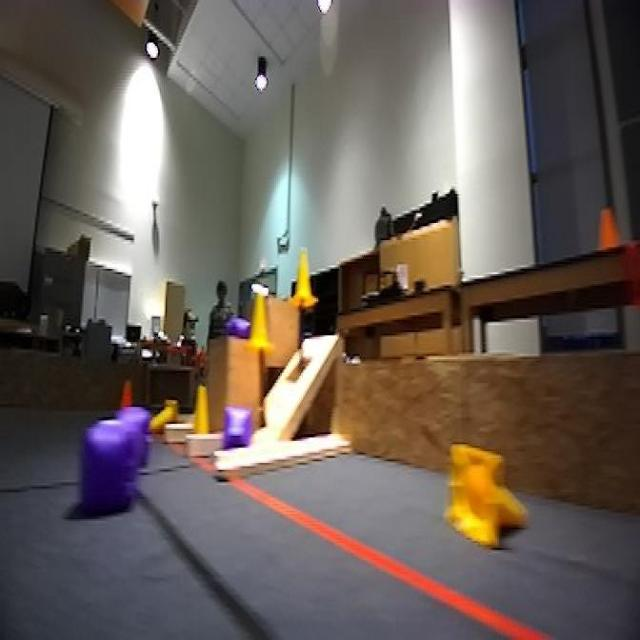frc_cone: (443, 432, 531, 557), (292, 247, 321, 308), (142, 400, 189, 436), (251, 293, 278, 354), (194, 382, 212, 432)
frc_cube: (82, 417, 143, 516), (124, 416, 162, 462), (221, 404, 259, 449), (234, 312, 256, 347)
